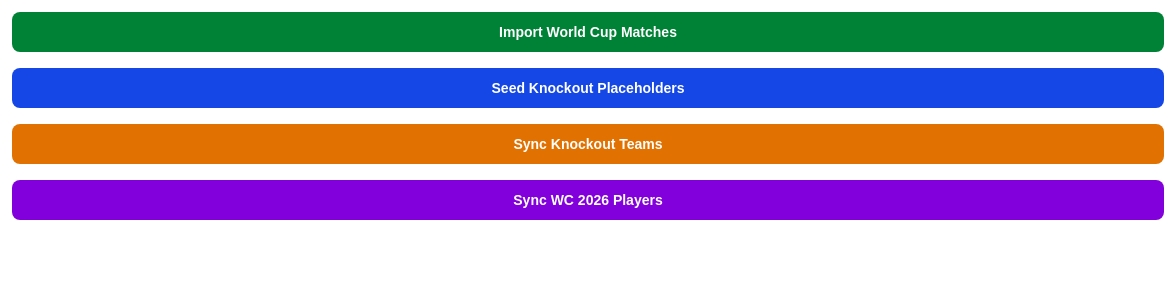
ImportMatchesButton › shows error message when action resolves { success: false, error: "DB_ERROR" }
Step 1. Click the button "Import World Cup Matches" → click(588, 32), box [12,12,1164,52]
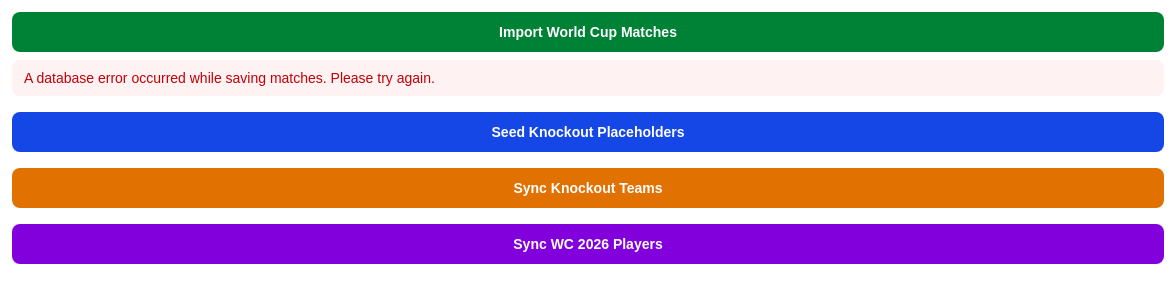
Expected: the message reads "A database error occurred while saving matches. Please try again.", [24,70,435,86]
